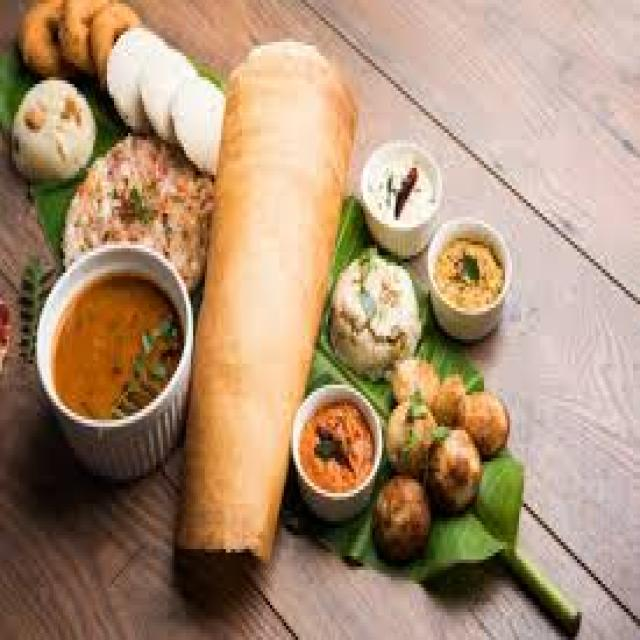DOSA: (170, 115, 321, 553)
IDLI: (105, 28, 163, 122), (168, 70, 221, 171)
